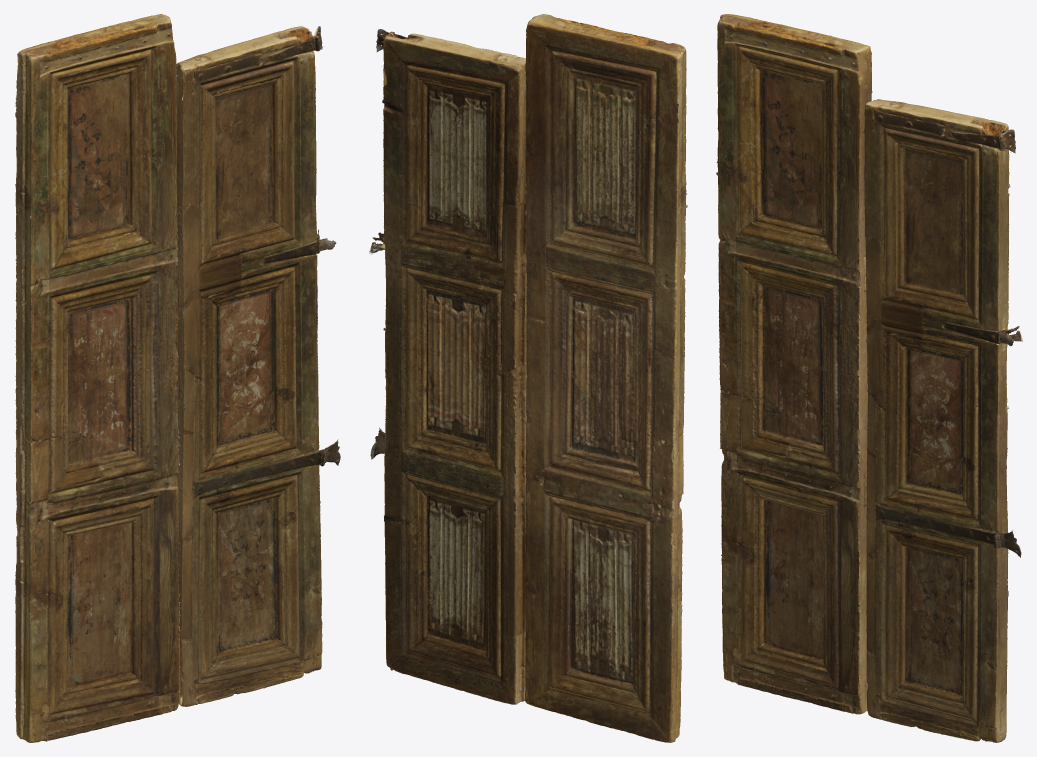
The model's file is puerta.glb.
3 renders of one model, left to right at view 1: azimuth 30°, elevation 25°; view 2: azimuth 150°, elevation 25°; view 3: azimuth 330°, elevation 25°, orthographic. The views are drawn at different scales.
Visible parts, largest first — view 1: hoja-2, hoja-1; view 2: hoja-2, hoja-1; view 3: hoja-2, hoja-1.
Boxes of the visible parts, x1,y1,x2,y2 form: hoja-2: [15, 14, 180, 742]; hoja-1: [176, 26, 340, 706]; hoja-2: [525, 14, 687, 742]; hoja-1: [369, 29, 526, 704]; hoja-2: [716, 14, 872, 714]; hoja-1: [861, 99, 1022, 742].
Bounding box in the file's own units: 20.12 × 41.89 × 2.06.
Materials: 2 (2 with a texture image).
